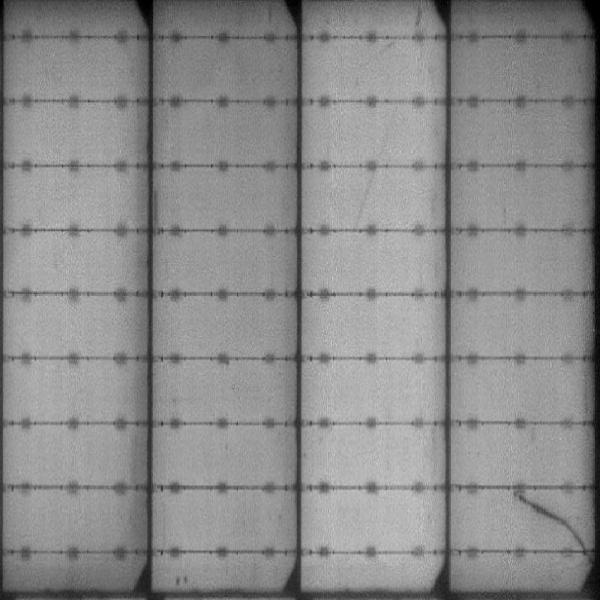scratch: (507, 490, 590, 546)
